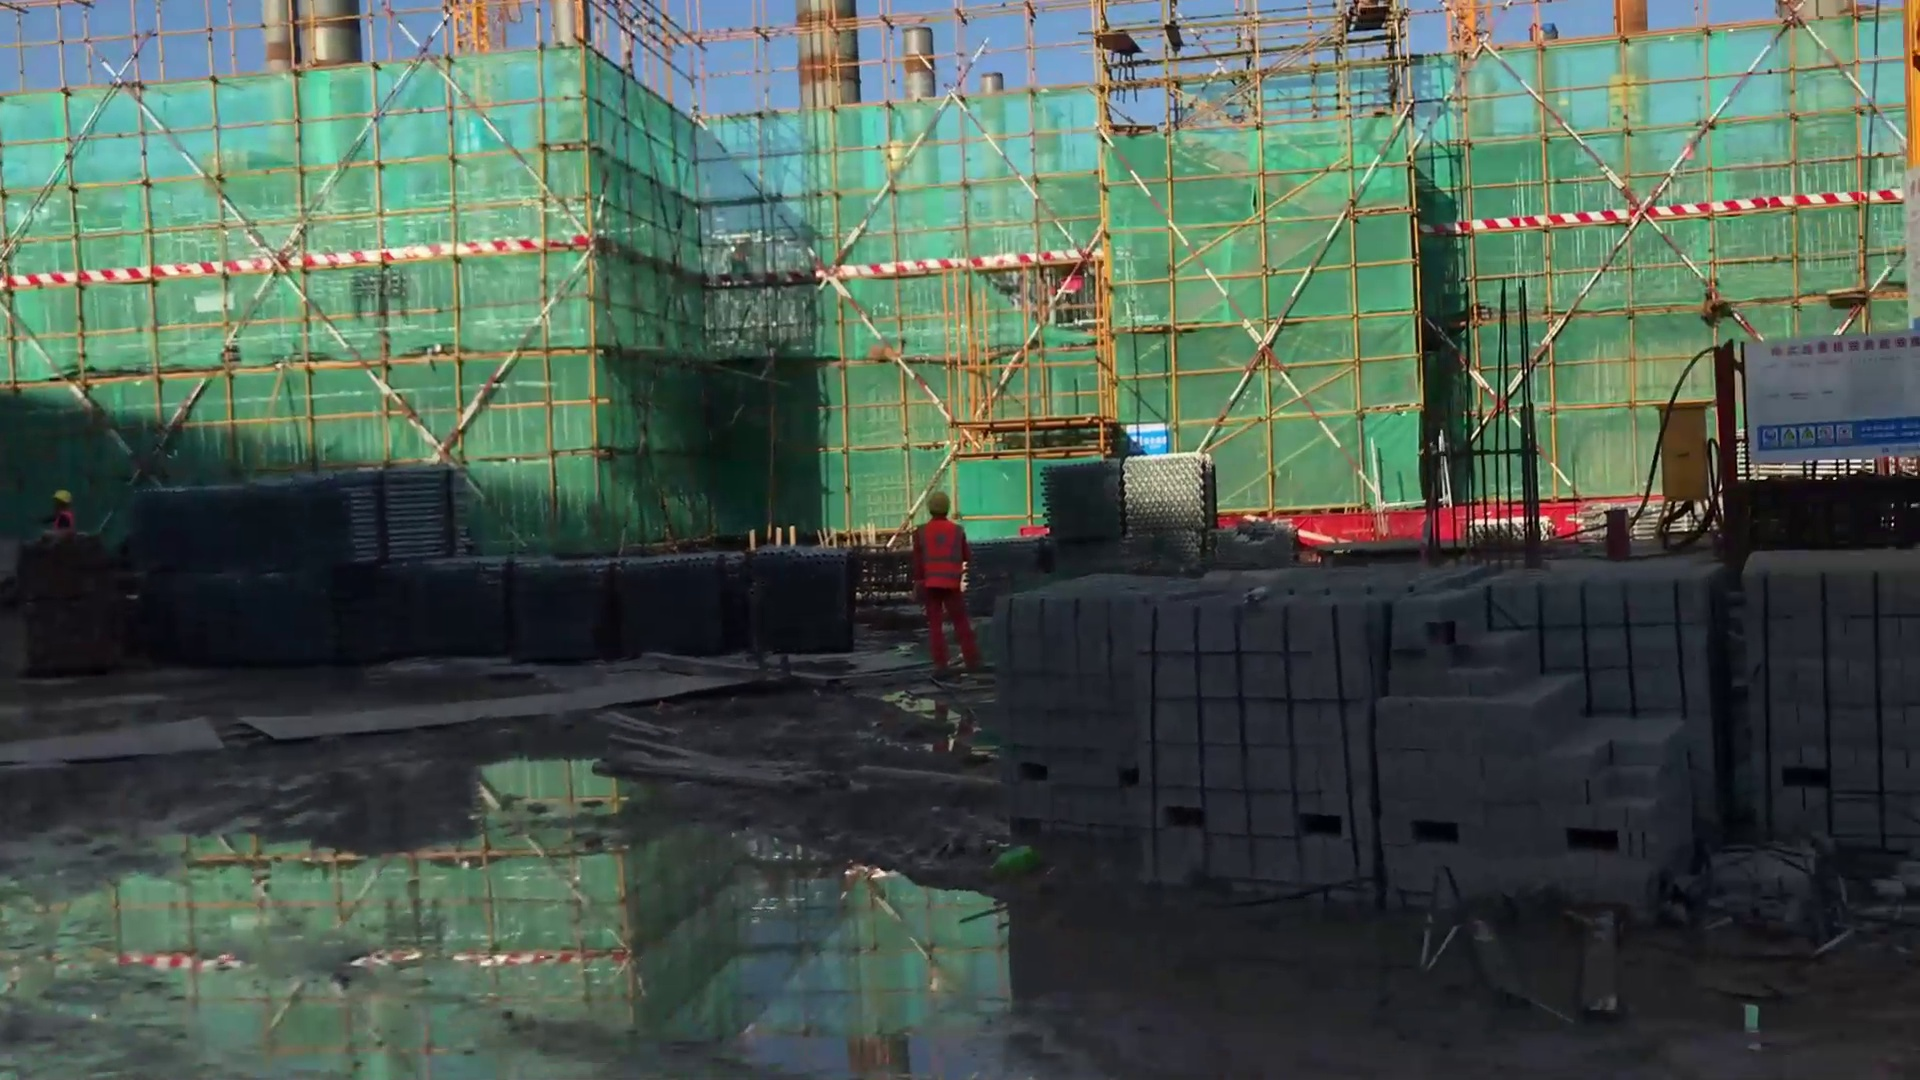brick: (1393, 541, 1696, 896), (1132, 575, 1391, 933), (1723, 527, 1920, 875)
ebox: (1652, 392, 1715, 506)
helmet: (917, 481, 965, 522), (45, 487, 80, 516)
person: (894, 482, 993, 679)
scaffold: (266, 465, 466, 573), (121, 482, 289, 572), (743, 550, 858, 664), (498, 561, 622, 663), (634, 549, 748, 656), (377, 554, 491, 656), (1122, 453, 1219, 542)
vest: (909, 519, 969, 592)
